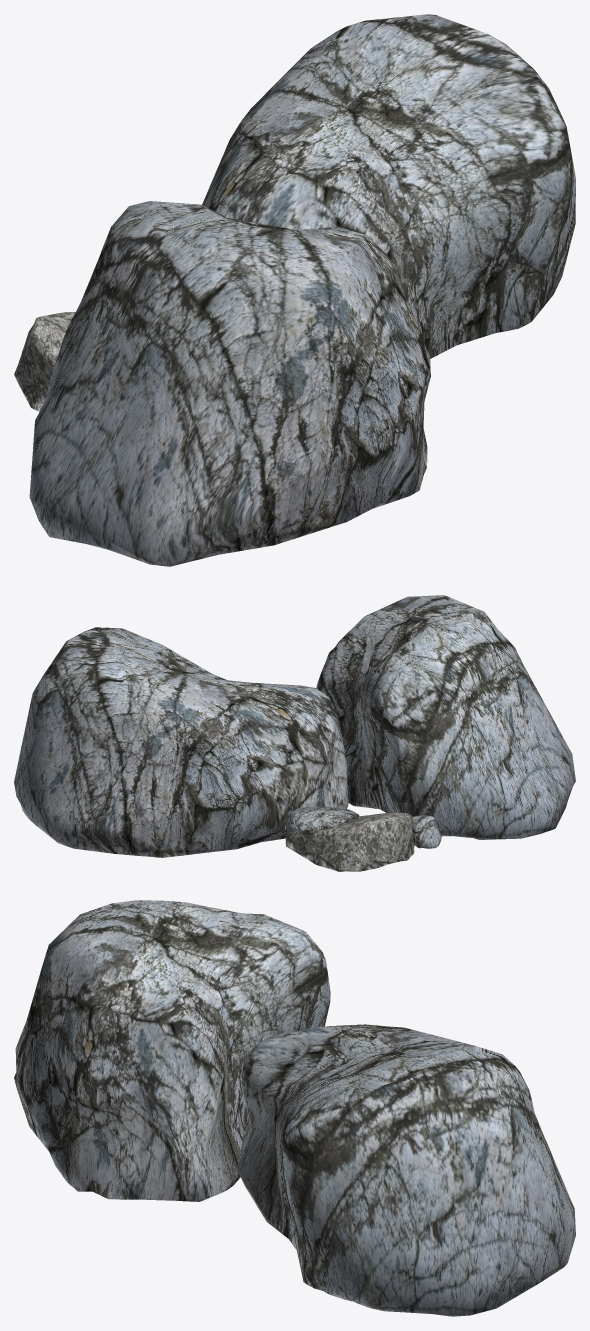
File: Flower stone decor N140613_v2.fbx
The picture shows the model from 3 angles, top to bottom: view 1: azimuth 30°, elevation 25°; view 2: azimuth 150°, elevation 25°; view 3: azimuth 270°, elevation 25°; orthographic projection. The views are drawn at different scales.
Visible parts, largest first — view 1: Box002, Box001, Cylinder00; view 2: Box001, Box002, Cylinder00, Box004, Box003; view 3: Box001, Box002.
Part boxes in pixels (left/top/right/bottom): Box002: left=29, top=201, right=430, bottom=566; Box001: left=202, top=14, right=575, bottom=358; Cylinder00: left=14, top=312, right=75, bottom=411; Box001: left=14, top=627, right=348, bottom=857; Box002: left=316, top=595, right=575, bottom=839; Cylinder00: left=285, top=812, right=414, bottom=871; Box004: left=286, top=806, right=359, bottom=835; Box003: left=411, top=815, right=441, bottom=848; Box001: left=237, top=1024, right=575, bottom=1316; Box002: left=14, top=900, right=330, bottom=1201.
Size of the model in its own units: 129 by 52.06 by 113.
Materials: 2 (2 with a texture image).
